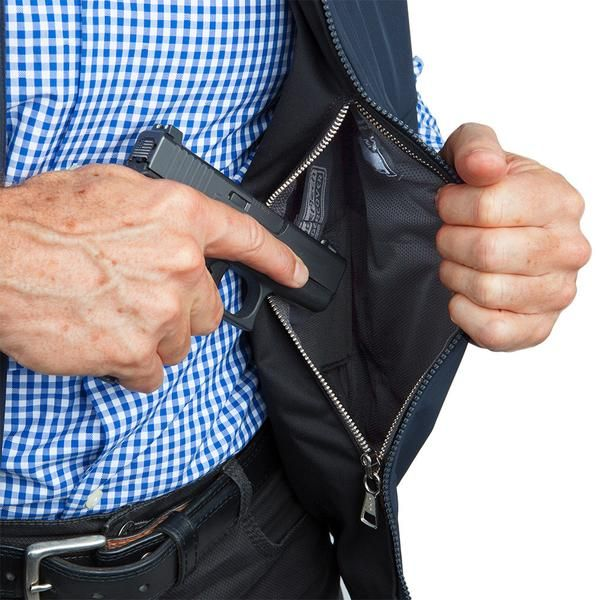gun: (121, 121, 353, 363)
